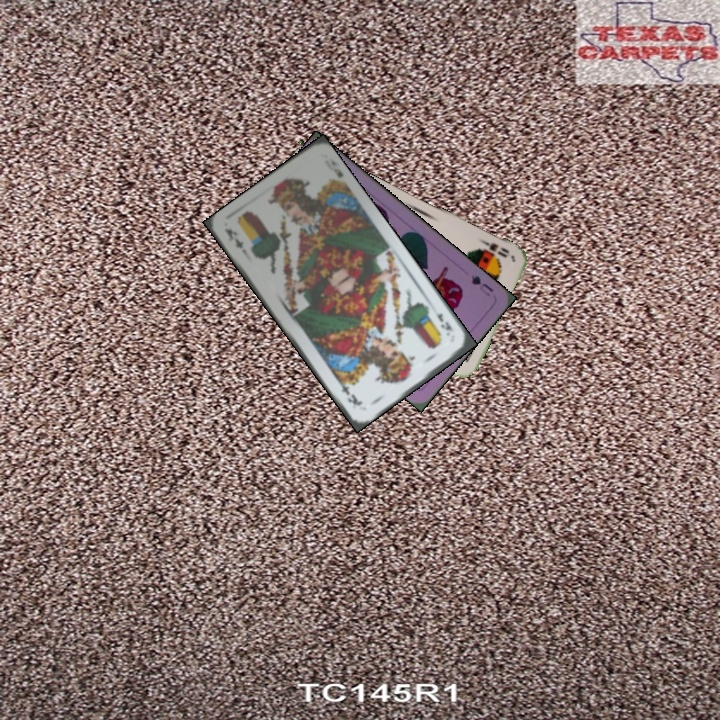EK: (220, 224, 251, 259), (433, 309, 455, 338)
GU: (467, 271, 496, 299)
SO: (474, 235, 512, 260)
